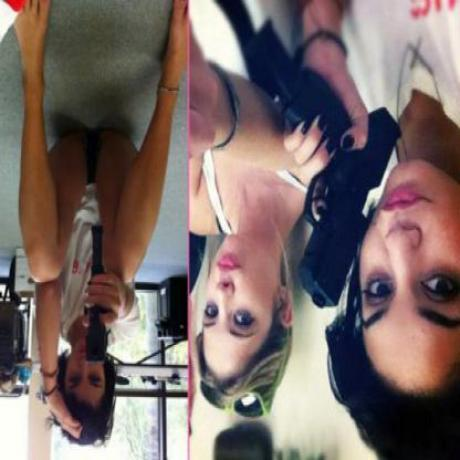1: (0, 0, 182, 446)
weapon: (256, 56, 400, 322), (78, 222, 128, 372)
